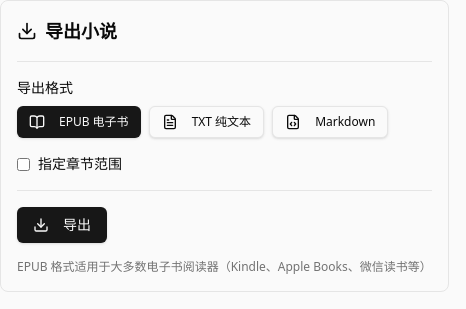
Scenario: ExportPanel › shows retry button on error
Click the button with test id "export-button" at [62, 225], box [17,207,107,243]
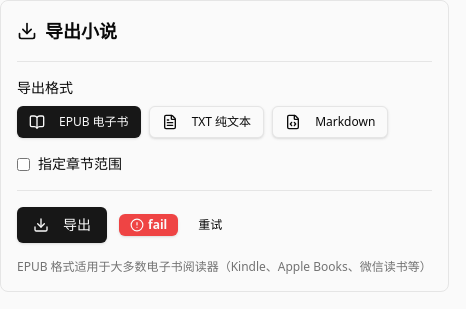
Now the button "重试" is shown, box [186,209,234,241]
